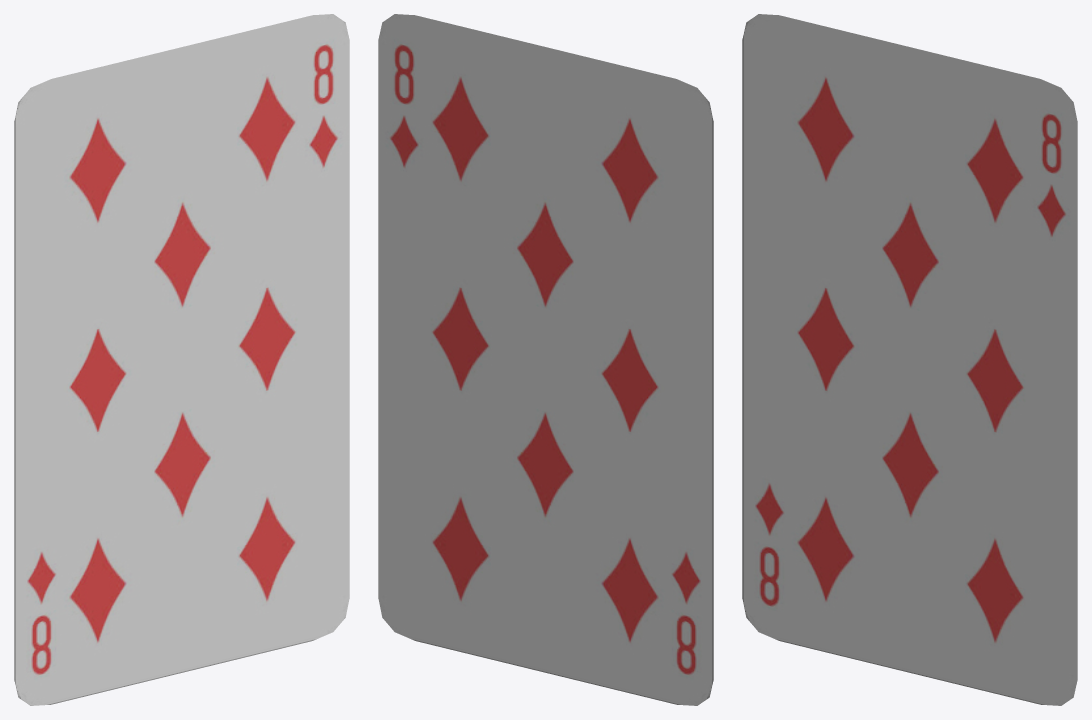
File: 8_diamonds.glb
3 renders of one model, left to right at view 1: azimuth 30°, elevation 25°; view 2: azimuth 150°, elevation 25°; view 3: azimuth 330°, elevation 25°, orthographic.
Visible parts, largest first — view 1: Eight of Diamonds_22_0; view 2: Eight of Diamonds_22_0; view 3: Eight of Diamonds_22_0.
Boxes of the visible parts, x1,y1,x2,y2 form: Eight of Diamonds_22_0: [14, 14, 349, 705]; Eight of Diamonds_22_0: [378, 14, 713, 705]; Eight of Diamonds_22_0: [742, 14, 1077, 705].
Size of the model in its own units: 0.2527 by 0.4503 by 2.78e-17.
1 material, 1 textured.
